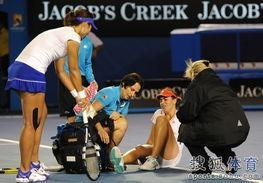Fall-Detected: (112, 80, 184, 173)
